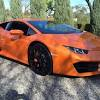Lamborghini: (1, 18, 99, 77)
